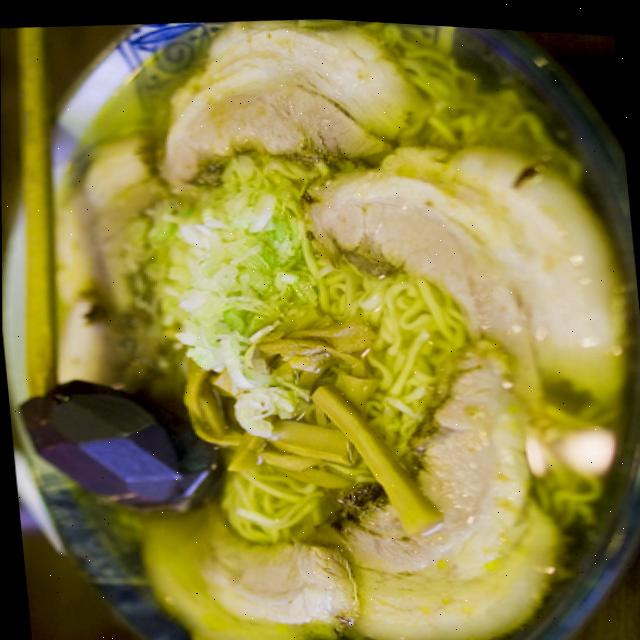面条主食: (22, 1, 640, 640)
